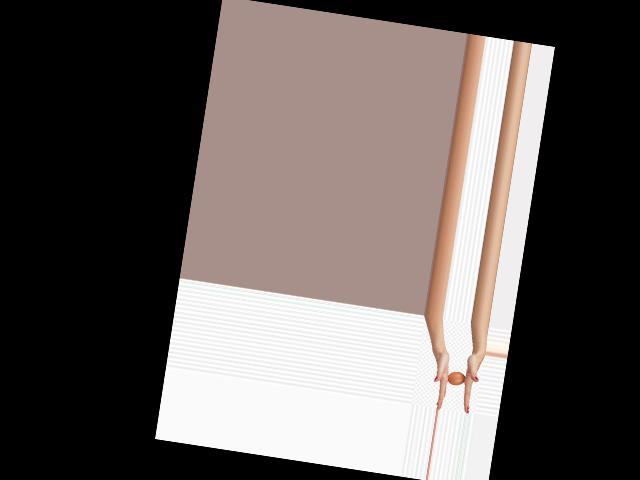egg: (446, 370, 465, 385)
